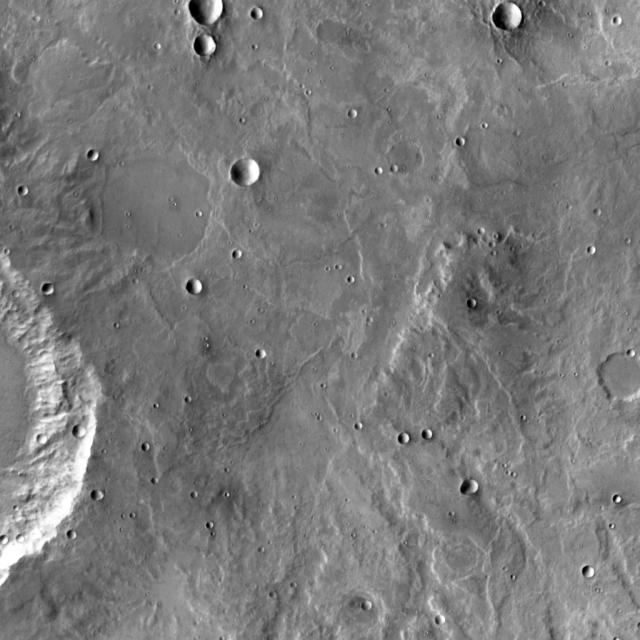crater: (101, 142, 228, 267), (348, 589, 390, 629), (606, 353, 640, 402), (395, 140, 431, 175), (500, 2, 530, 32), (197, 0, 231, 24), (240, 160, 268, 188), (202, 34, 224, 56), (471, 479, 486, 495), (194, 278, 209, 294), (589, 566, 602, 580), (80, 425, 94, 438), (467, 483, 480, 496), (429, 430, 442, 442), (407, 433, 419, 445), (259, 9, 271, 21), (45, 434, 57, 446), (24, 187, 36, 198), (442, 615, 453, 626), (91, 146, 103, 156), (464, 138, 474, 148), (264, 350, 274, 360), (46, 282, 56, 292), (369, 600, 379, 610), (620, 15, 630, 25), (74, 530, 84, 540), (357, 110, 366, 120), (474, 301, 484, 310), (96, 489, 105, 497), (241, 252, 250, 260), (615, 490, 623, 498), (596, 247, 604, 255), (8, 535, 16, 543), (477, 220, 485, 228), (23, 535, 31, 543), (356, 416, 363, 424), (146, 440, 153, 448), (348, 271, 356, 278), (214, 524, 222, 531), (350, 346, 358, 353), (34, 12, 41, 19), (390, 158, 397, 165), (13, 286, 20, 293), (269, 586, 276, 593), (594, 202, 602, 208), (378, 161, 384, 168), (489, 235, 496, 241), (152, 471, 158, 477), (192, 486, 198, 492), (515, 123, 521, 129), (155, 36, 161, 42), (196, 205, 202, 211)
